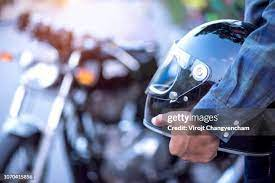helmets: (119, 16, 275, 170)
